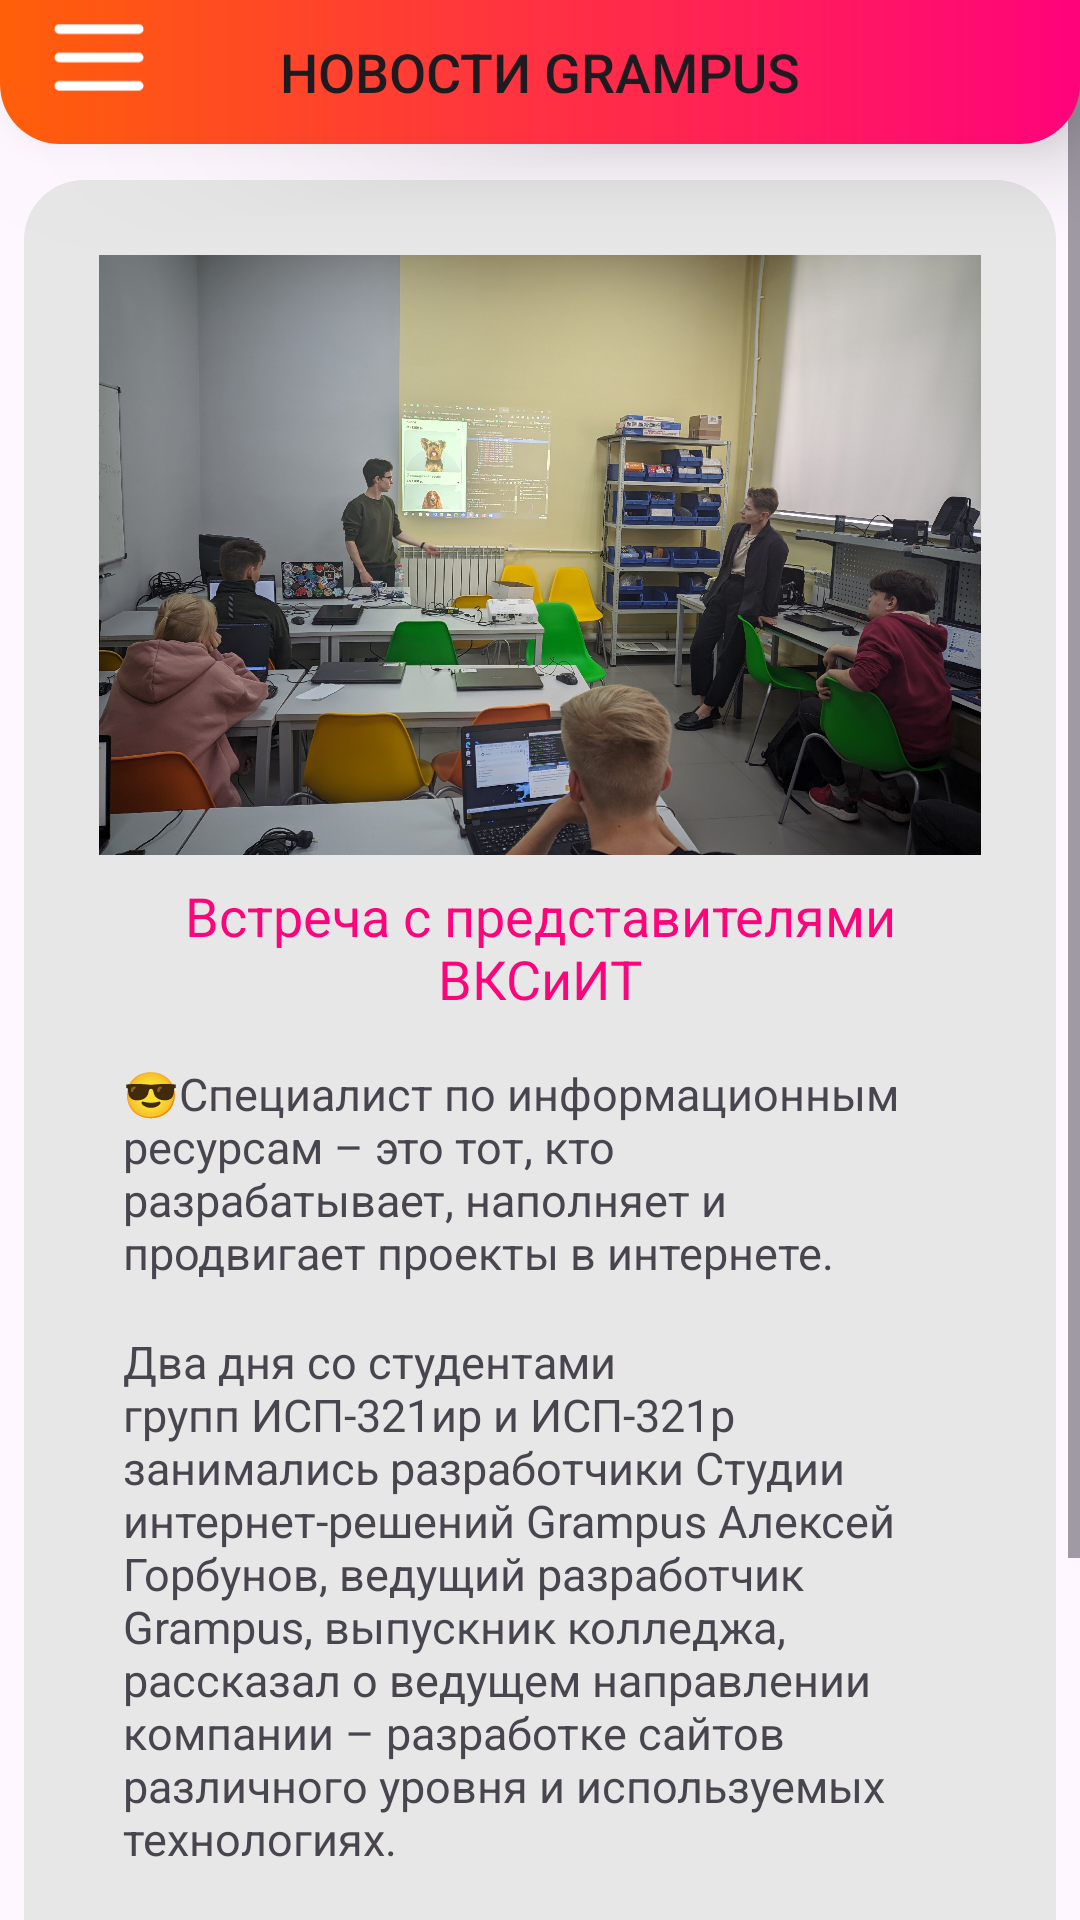

Locate icon controls on the screen. Image size 1080w x 1920h, boxes as rect(x1, y1, x2, y2).
burger menu: rect(54, 24, 144, 91)
